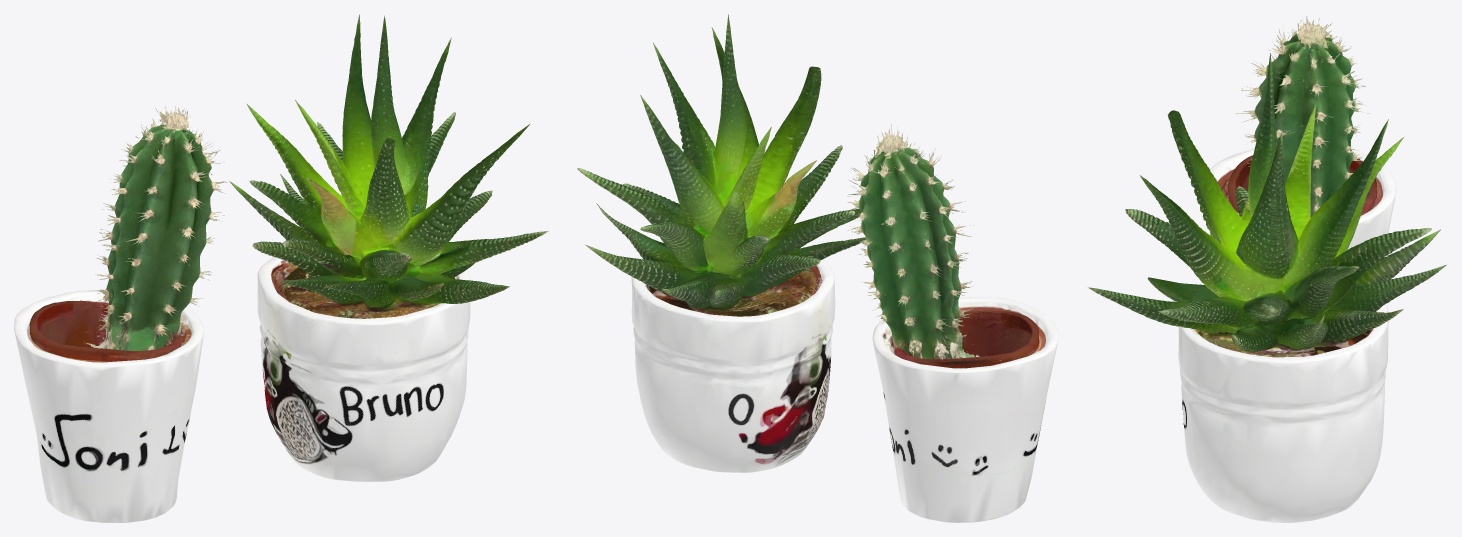
File: cacti.glb
3 views of the same model, side by side, from view 1: azimuth 30°, elevation 25°; view 2: azimuth 150°, elevation 25°; view 3: azimuth 270°, elevation 25° (orthographic). The views are drawn at different scales.
Visible parts, largest first — view 1: mesh_node; view 2: mesh_node; view 3: mesh_node.
Boxes of the visible parts, left/top/right/bottom form: mesh_node: left=14, top=14, right=548, bottom=522; mesh_node: left=577, top=14, right=1058, bottom=522; mesh_node: left=1088, top=16, right=1446, bottom=522.
Bounding box in the file's own units: 1.9 × 1.73 × 1.27.
Materials: 1 (1 with a texture image).
